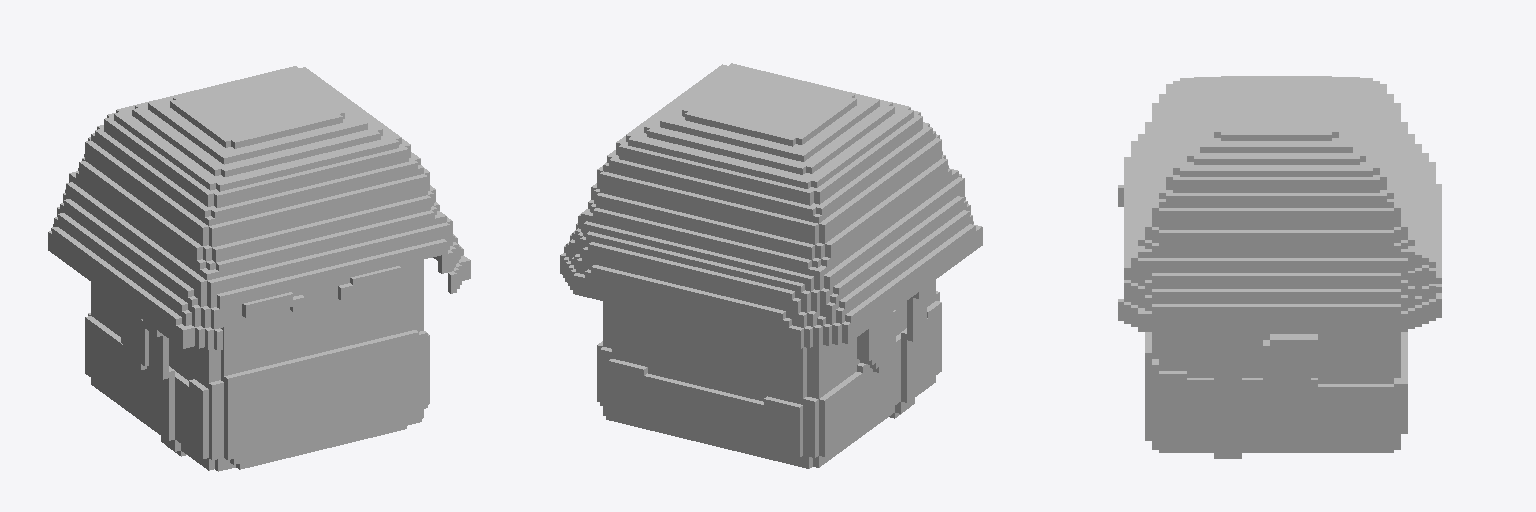
Rendered from Golova_voenny_sinyaya.obj.
3 views of the same model, side by side, from view 1: azimuth 30°, elevation 25°; view 2: azimuth 150°, elevation 25°; view 3: azimuth 270°, elevation 25° (orthographic).
Visible parts, largest first — view 1: object 1; view 2: object 1; view 3: object 1.
Boxes of the visible parts, <box> form: object 1: <box>48,66,470,471</box>; object 1: <box>560,63,982,468</box>; object 1: <box>1118,76,1441,458</box>.
Size of the model in its own units: 4.8 by 4.8 by 4.7.